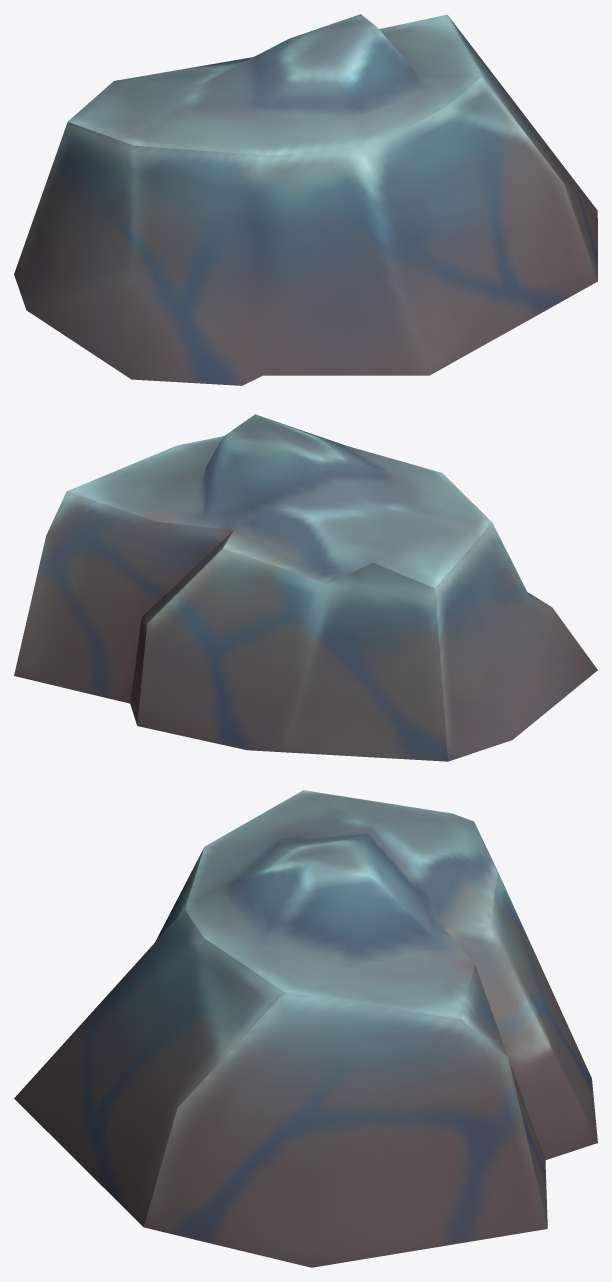
Rendered from field_rocks_iron_03.fbx.
3 views of the same model, one above another, from view 1: azimuth 30°, elevation 25°; view 2: azimuth 150°, elevation 25°; view 3: azimuth 270°, elevation 25° (orthographic). The views are drawn at different scales.
Parts seen in each view (by area): view 1: field_rocks_iron_03; view 2: field_rocks_iron_03; view 3: field_rocks_iron_03.
Boxes of the visible parts, bbox=[...] form: field_rocks_iron_03: bbox=[14, 14, 597, 385]; field_rocks_iron_03: bbox=[14, 414, 597, 761]; field_rocks_iron_03: bbox=[14, 790, 597, 1267].
Bounding box in the file's own units: 74.13 × 31.77 × 60.43.
